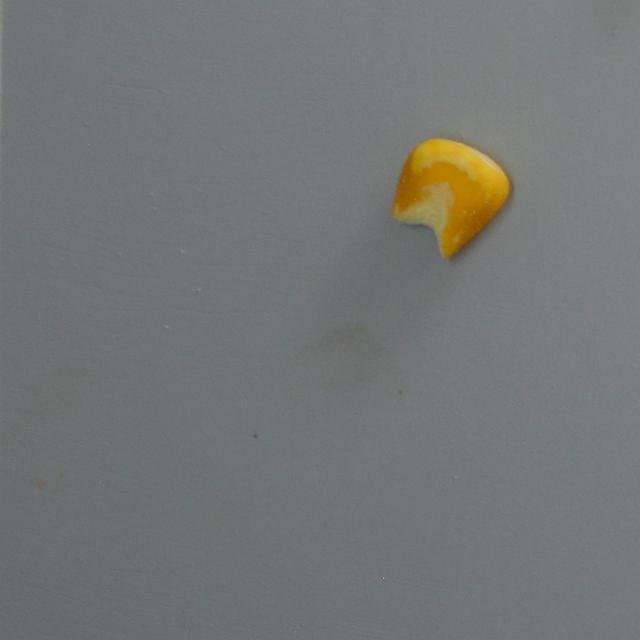no_canjicado: (390, 136, 510, 260)
